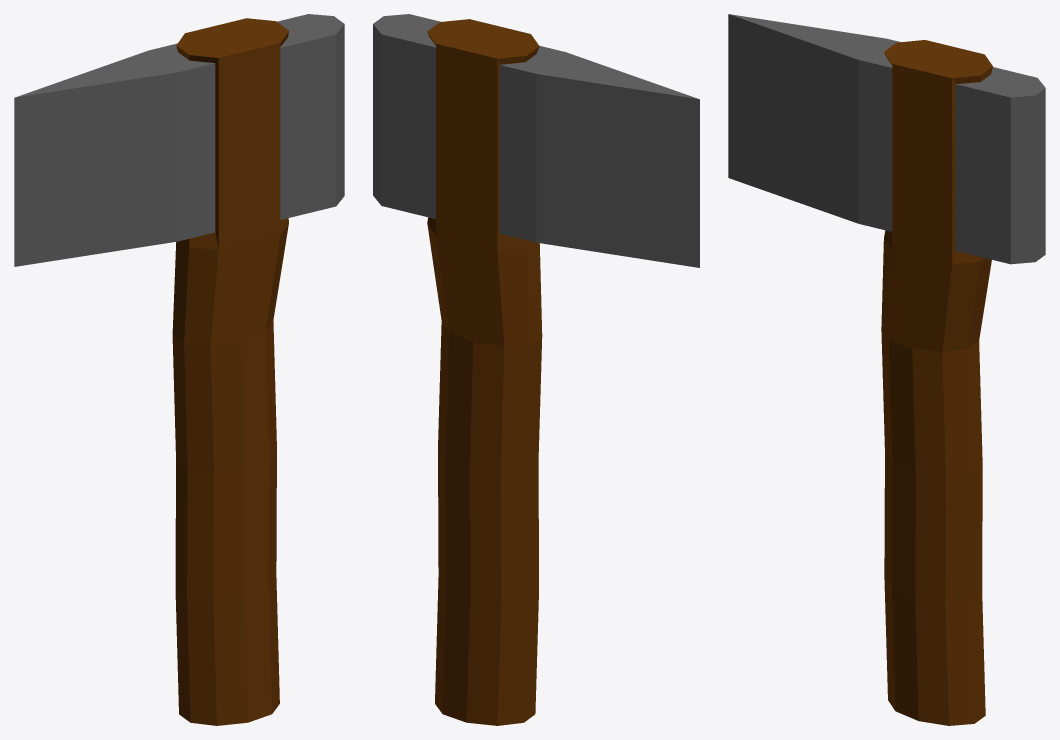
Rendered from Hatchet.fbx.
The picture shows the model from 3 angles, left to right: view 1: azimuth 30°, elevation 25°; view 2: azimuth 150°, elevation 25°; view 3: azimuth 330°, elevation 25°; orthographic projection. The views are drawn at different scales.
Parts seen in each view (by area): view 1: Cylinder; view 2: Cylinder; view 3: Cylinder.
Part boxes in pixels (x1,y1,x2,y2): Cylinder: [14, 14, 344, 725]; Cylinder: [373, 14, 699, 725]; Cylinder: [728, 14, 1045, 725].
Size of the model in its own units: 0.1851 by 0.3673 by 0.0372.
